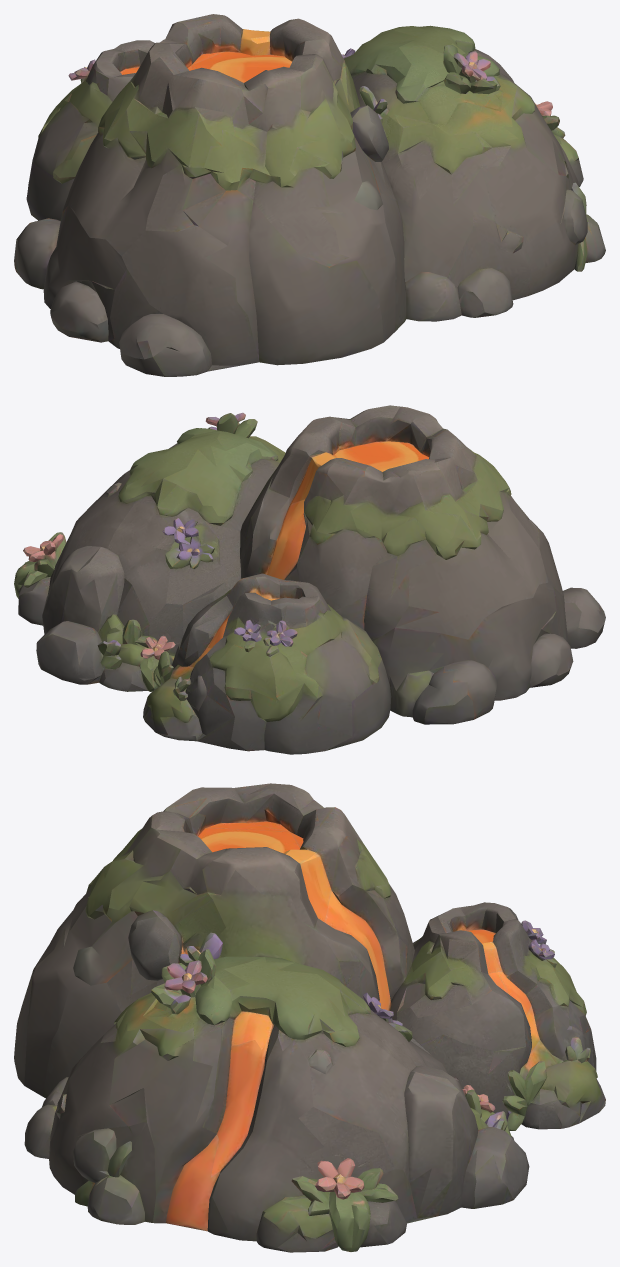
File: volcanicRock.glb
3 renders of one model, top to bottom at view 1: azimuth 30°, elevation 25°; view 2: azimuth 150°, elevation 25°; view 3: azimuth 270°, elevation 25°, orthographic. The views are drawn at different scales.
Parts seen in each view (by area): view 1: Mesh_0; view 2: Mesh_0; view 3: Mesh_0.
Boxes of the visible parts, x1,y1,x2,y2 form: Mesh_0: (14,14,605,376); Mesh_0: (14,405,605,754); Mesh_0: (14,783,605,1252).
Size of the model in its own units: 1.2 by 0.4808 by 1.03.
Materials: 1 (1 with a texture image).
